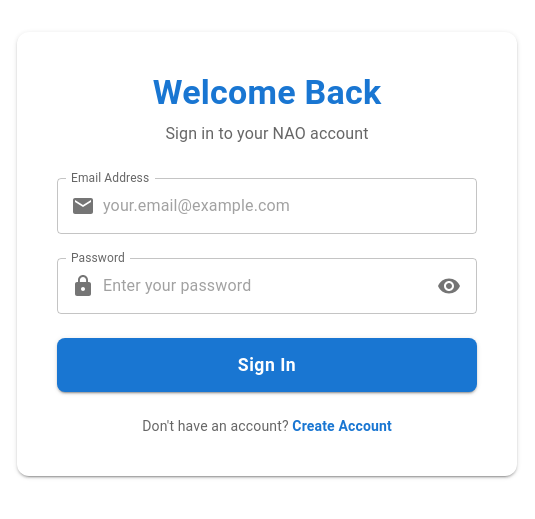
LoginPage › shows validation errors for empty required fields
The image size is (535, 519).
Step 1. Click the button "Sign In" → {"x": 267, "y": 365}, box x1=57 y1=338 x2=477 y2=392
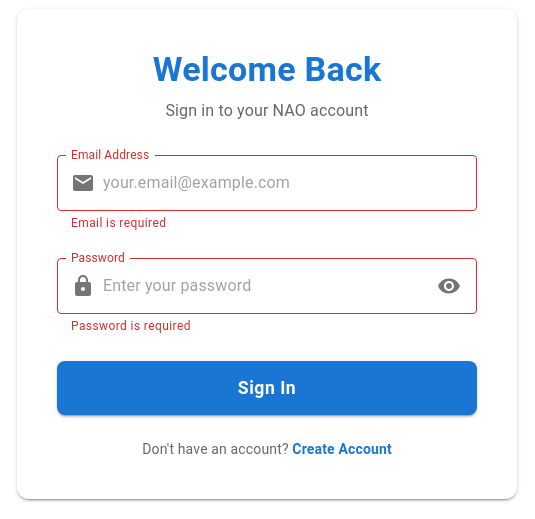
Expected: the text "Email is required" is shown, x1=71 y1=216 x2=166 y2=230
Expected: the text "Password is required" is shown, x1=71 y1=319 x2=191 y2=333
